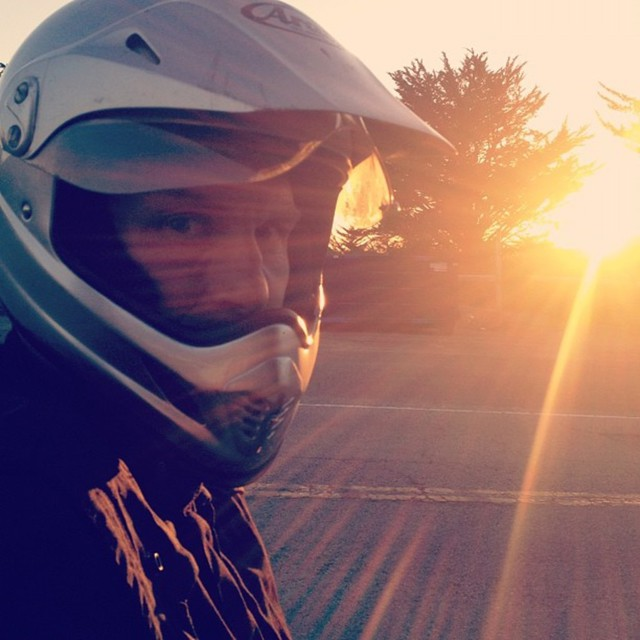helmet: (1, 3, 390, 463)
